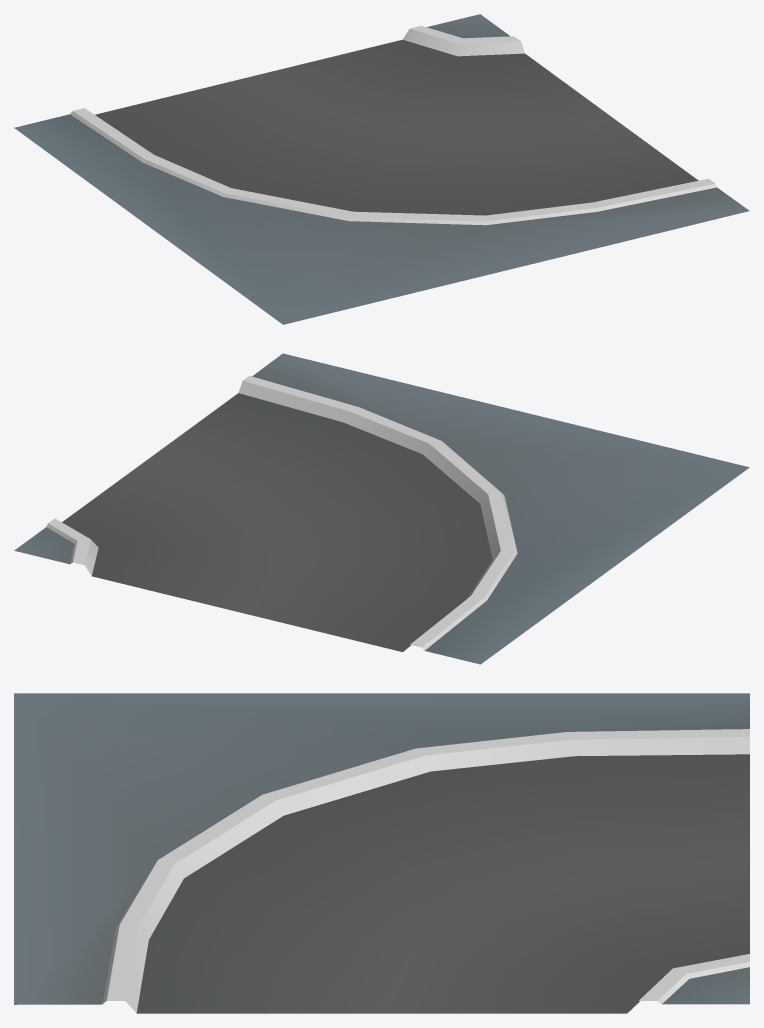
Rendered from SRoad03.fbx.
3 renders of one model, top to bottom at view 1: azimuth 30°, elevation 25°; view 2: azimuth 150°, elevation 25°; view 3: azimuth 270°, elevation 25°, orthographic. The views are drawn at different scales.
Visible parts, largest first — view 1: SRoad03; view 2: SRoad03; view 3: SRoad03.
Boxes of the visible parts, x1,y1,x2,y2 form: SRoad03: [14, 14, 749, 324]; SRoad03: [14, 353, 749, 664]; SRoad03: [14, 693, 749, 1013].
Bounding box in the file's own units: 2 × 0.038 × 2.
